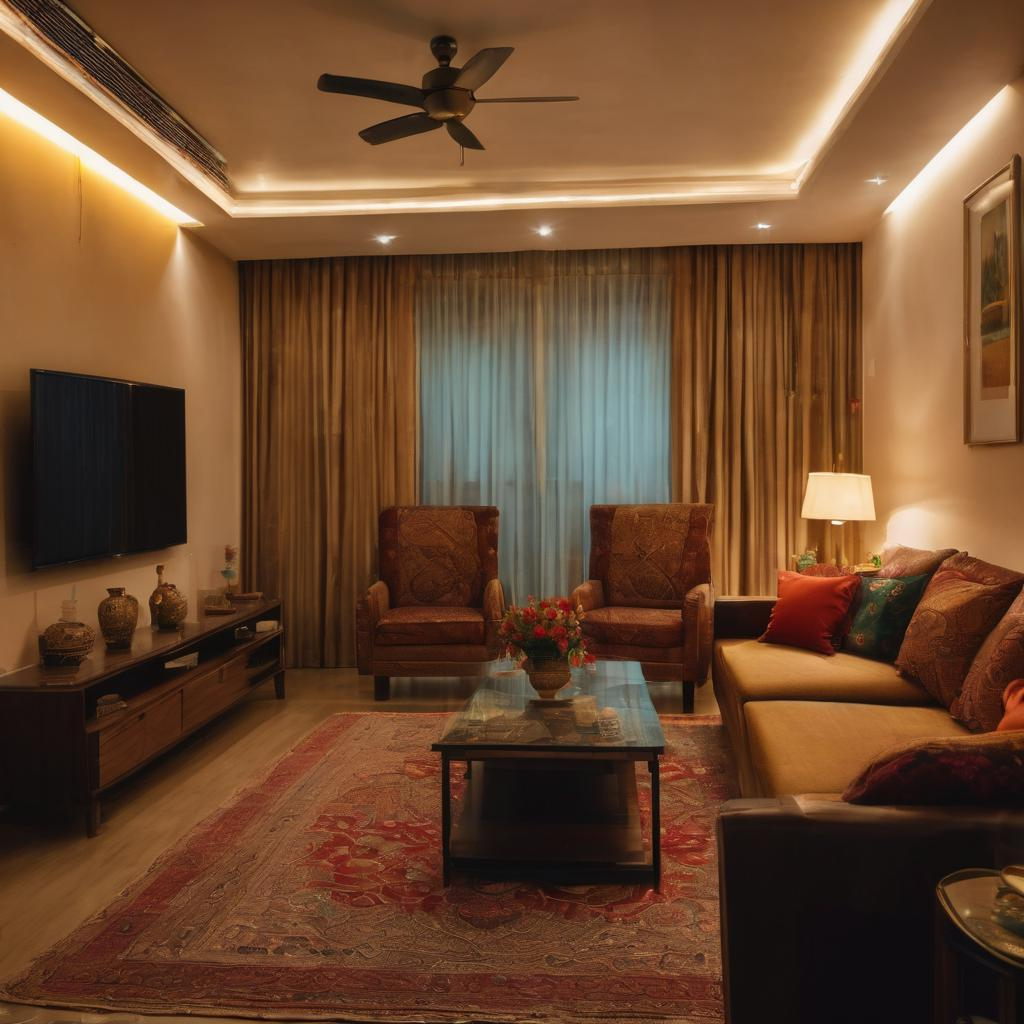TV: (0, 368, 192, 578)
chair: (356, 498, 512, 702), (559, 500, 722, 695)
console: (0, 582, 286, 835)
fan: (324, 18, 566, 172)
light: (0, 85, 219, 225), (872, 80, 1019, 235), (802, 465, 874, 578), (369, 228, 399, 255), (532, 218, 552, 250), (752, 215, 769, 238), (856, 182, 876, 190)
sofa: (696, 540, 1024, 885)
table: (432, 650, 669, 890), (919, 858, 1024, 1018)
